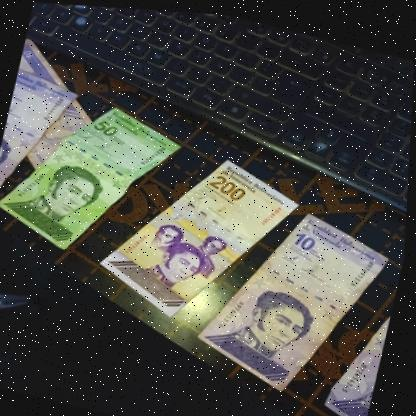fifty-front-vef: (0, 81, 189, 271)
ten-front-vef: (191, 187, 398, 406), (0, 34, 110, 182), (0, 65, 82, 214), (322, 298, 394, 416)
two_hundred-front-vef: (91, 130, 308, 340)
